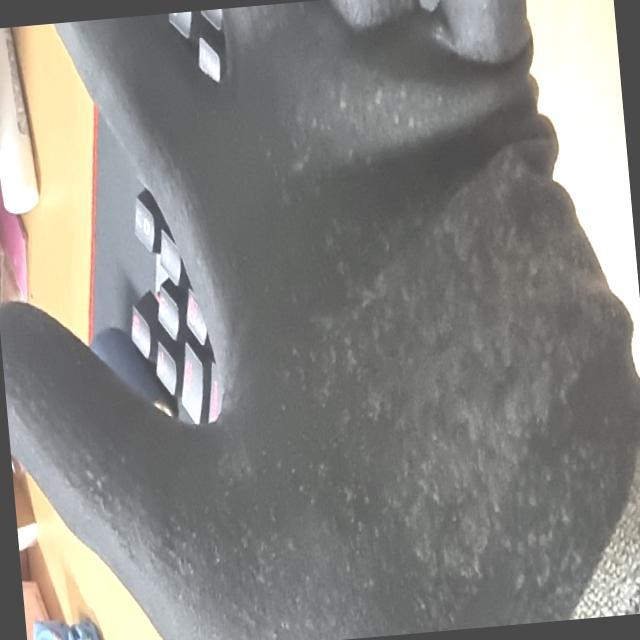Gloves: (12, 17, 640, 637)
